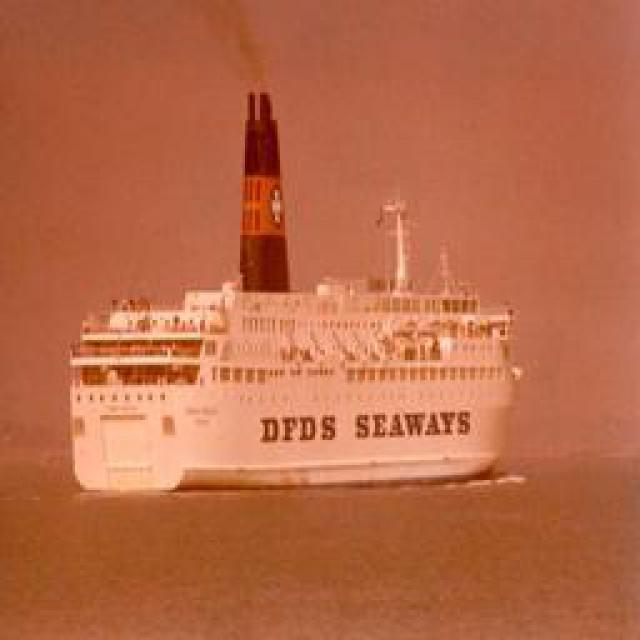Ship: (48, 66, 537, 503)
